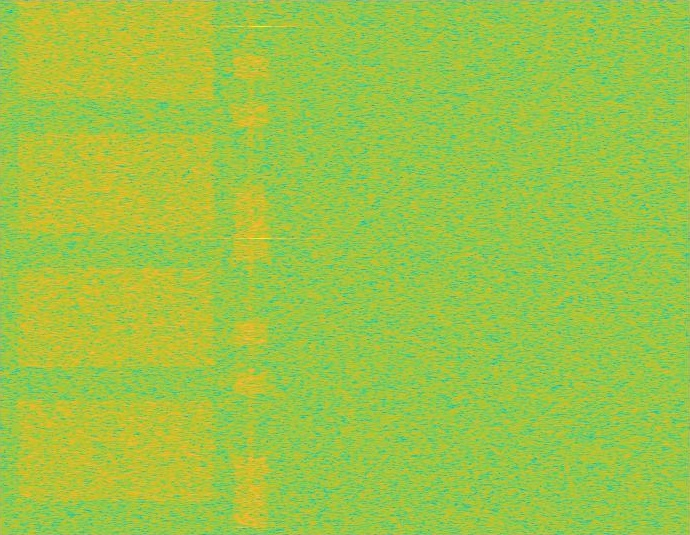5G: (13, 0, 220, 534)
DSSS: (249, 0, 253, 534)
LTE: (234, 0, 268, 534)
Radar: (253, 0, 267, 534)
